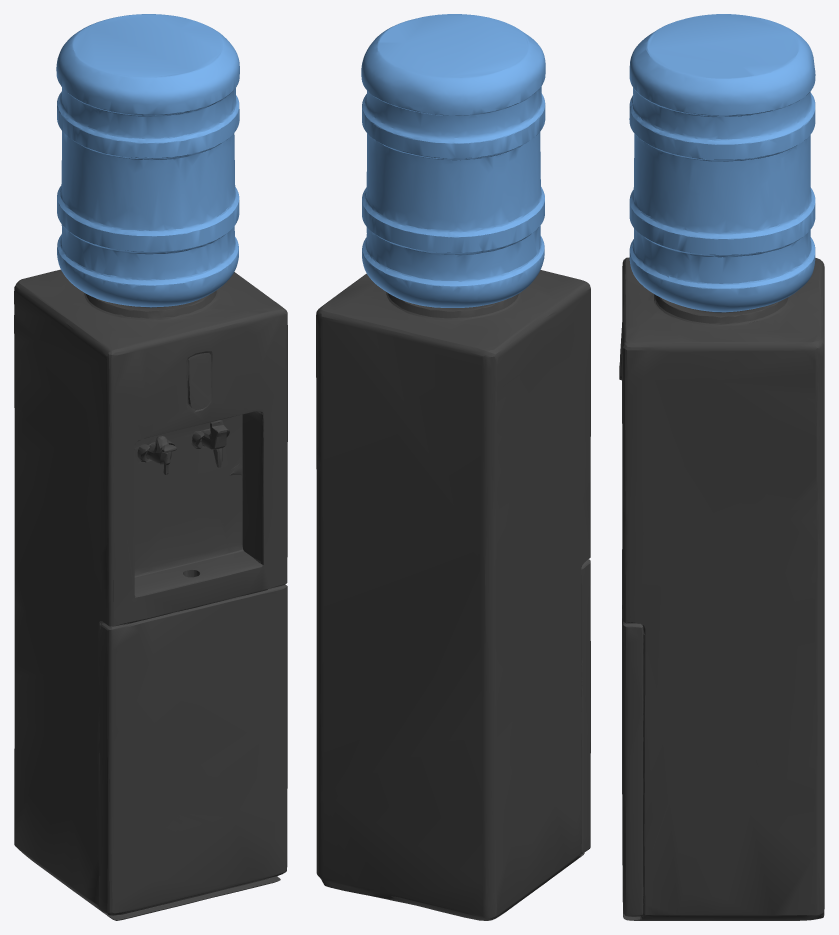
Rendered from Dispensador_Agua.fbx.
3 views of the same model, side by side, from view 1: azimuth 30°, elevation 25°; view 2: azimuth 150°, elevation 25°; view 3: azimuth 270°, elevation 25° (orthographic).
Visible parts, largest first — view 1: Dispensador_A; view 2: Dispensador_A; view 3: Dispensador_A.
Part boxes in pixels (left/top/right/bottom): Dispensador_A: left=14, top=14, right=287, bottom=920; Dispensador_A: left=316, top=14, right=590, bottom=920; Dispensador_A: left=619, top=14, right=824, bottom=920.
Size of the model in its own units: 33.64 by 146 by 32.57.
